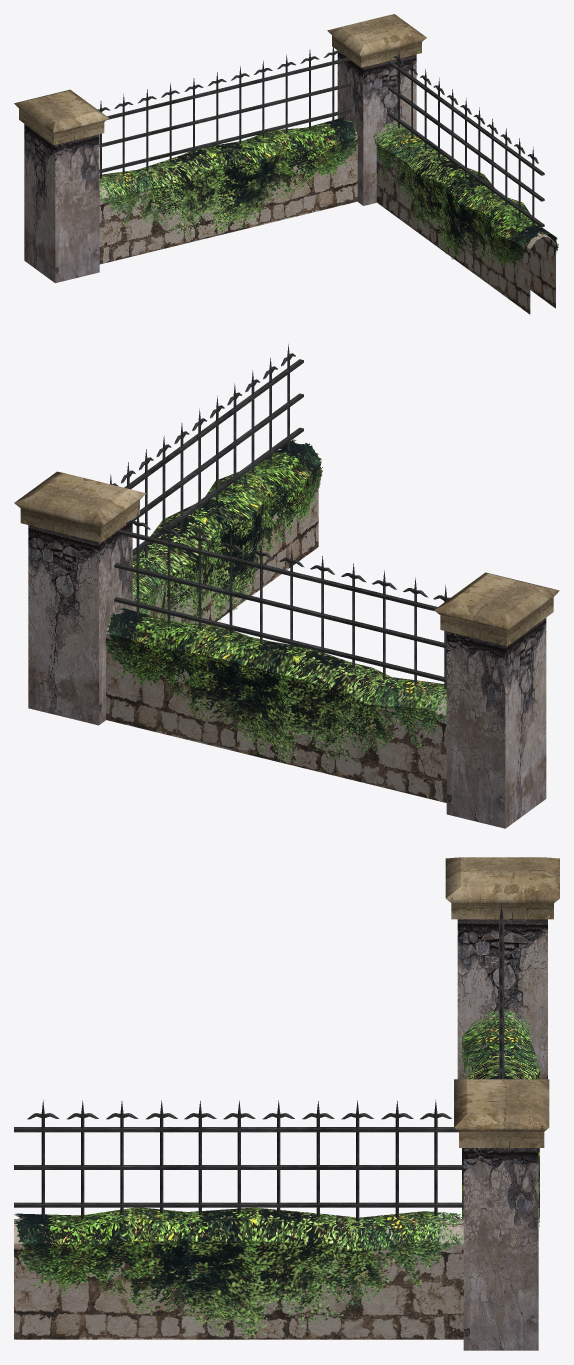
File: Wall_Left_02.fbx
The picture shows the model from 3 angles, top to bottom: view 1: azimuth 30°, elevation 25°; view 2: azimuth 150°, elevation 25°; view 3: azimuth 270°, elevation 25°; orthographic projection. The views are drawn at different scales.
Parts seen in each view (by area): view 1: wall_left_02; view 2: wall_left_02; view 3: wall_left_02.
Part boxes in pixels (x1,y1,x2,y2): wall_left_02: (14,14,558,314); wall_left_02: (14,344,559,828); wall_left_02: (14,857,559,1350).
Size of the model in its own units: 8.5 by 3.54 by 7.28.
